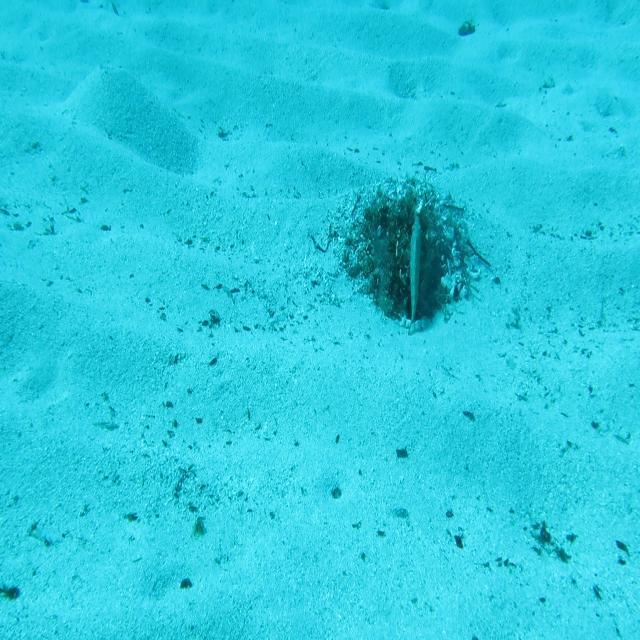FAN: (402, 206, 426, 336)
nest: (336, 182, 472, 342)
